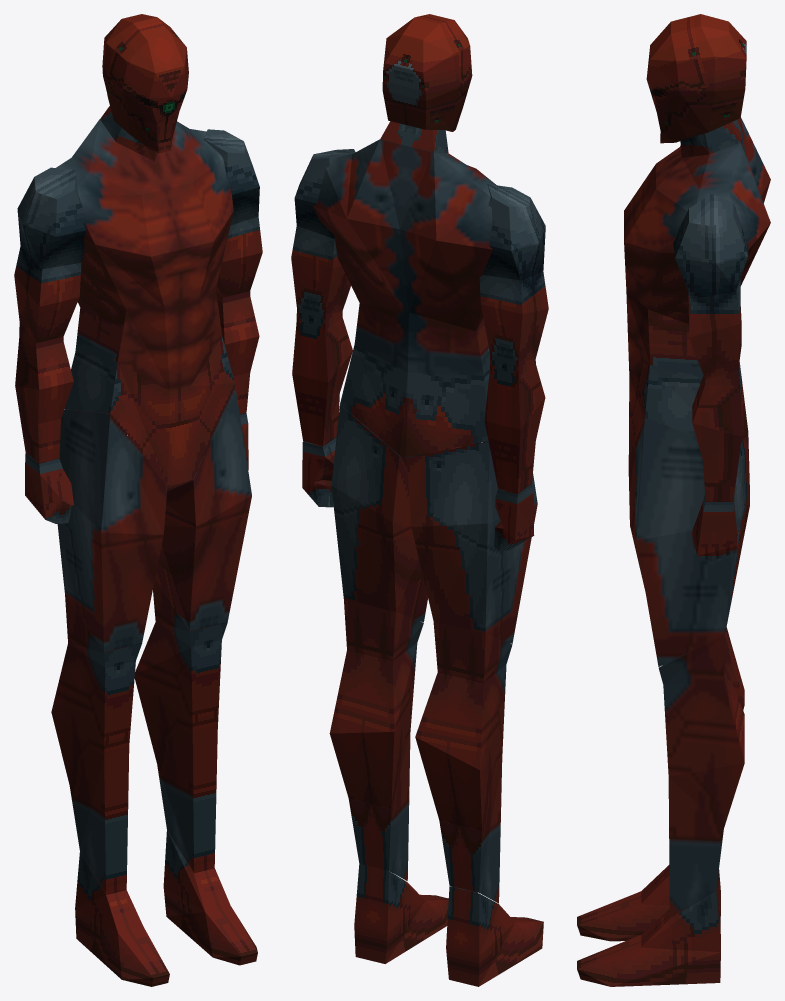
The model's file is Ninja.obj.
The picture shows the model from 3 angles, left to right: view 1: azimuth 30°, elevation 25°; view 2: azimuth 150°, elevation 25°; view 3: azimuth 270°, elevation 25°; orthographic projection. The views are drawn at different scales.
Parts seen in each view (by area): view 1: Object.896, Object.1009, Object.884, Object.795, Object.887, Object.856, Object.973, Object.979, Object.848, Object.830, Object.894, Object.969 (+54 smaller); view 2: Object.859, Object.1012, Object.820, Object.838, Object.953, Object.963, Object.924, Object.786, Object.930, Object.942, Object.884, Object.803 (+54 smaller); view 3: Object.988, Object.969, Object.959, Object.998, Object.943, Object.984, Object.1010, Object.896, Object.841, Object.979, Object.859, Object.832 (+40 smaller).
Part boxes in pixels (x1,y1,x2,y2): Object.896: (79, 182, 233, 391); Object.1009: (110, 337, 234, 486); Object.884: (57, 409, 110, 651); Object.795: (95, 245, 222, 391); Object.887: (71, 119, 213, 307); Object.856: (101, 532, 163, 651); Object.973: (189, 496, 251, 630); Object.979: (134, 622, 193, 871); Object.848: (65, 595, 141, 893); Object.830: (51, 643, 105, 756); Object.894: (101, 414, 163, 535); Object.969: (153, 579, 227, 871); Object.859: (313, 139, 492, 331); Object.1012: (340, 344, 488, 456); Object.820: (411, 523, 487, 633); Object.838: (406, 441, 489, 526); Object.953: (331, 485, 395, 611); Object.963: (331, 405, 399, 521); Object.924: (415, 672, 483, 769); Object.786: (313, 168, 483, 375); Object.930: (329, 650, 394, 733); Object.942: (330, 732, 394, 808); Object.884: (485, 474, 537, 643); Object.803: (415, 737, 481, 830); Object.988: (636, 418, 732, 666); Object.969: (658, 634, 724, 917); Object.959: (663, 683, 744, 776); Object.998: (692, 385, 741, 501); Object.943: (577, 891, 720, 986); Object.984: (611, 947, 720, 986); Object.1010: (645, 365, 702, 434); Object.896: (624, 164, 661, 308); Object.841: (648, 309, 703, 377); Object.979: (669, 763, 744, 827); Object.859: (729, 117, 770, 285); Object.832: (624, 189, 687, 252).
Bounding box in the file's own units: 4.6 × 17.31 × 3.26.
36 materials, 36 textured.
